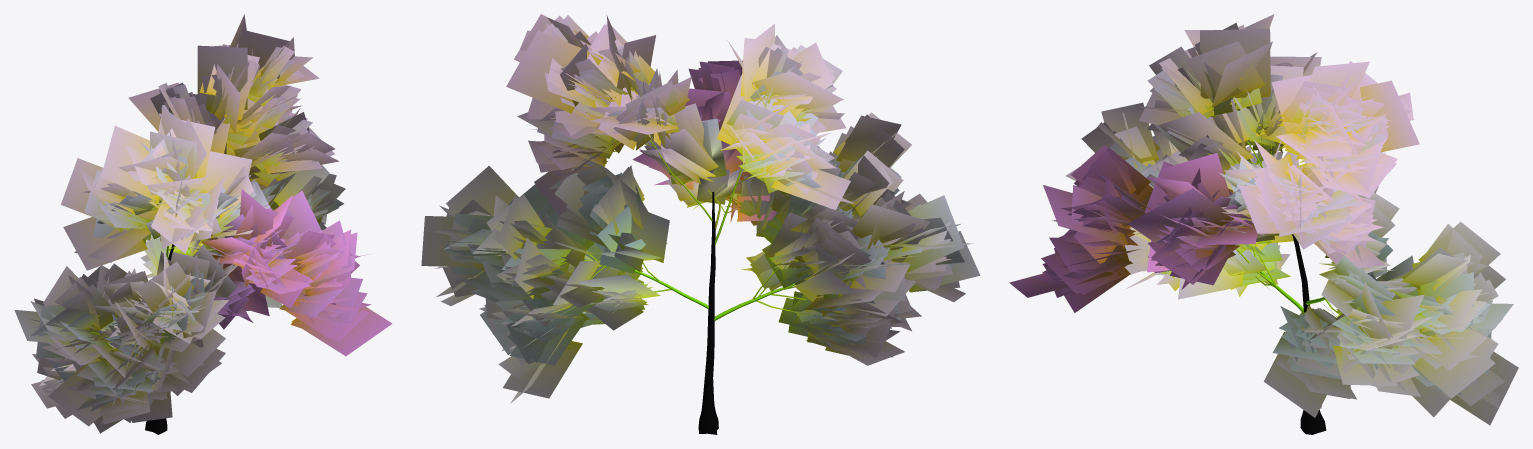
File: tree_pagoda_d.glb
3 renders of one model, left to right at view 1: azimuth 30°, elevation 25°; view 2: azimuth 150°, elevation 25°; view 3: azimuth 270°, elevation 25°, orthographic. The views are drawn at different scales.
Visible parts, largest first — view 1: tree_pagoda_d; view 2: tree_pagoda_d; view 3: tree_pagoda_d.
Part boxes in pixels (<box>): tree_pagoda_d: <box>14,14,392,434</box>; tree_pagoda_d: <box>421,14,980,434</box>; tree_pagoda_d: <box>1009,14,1518,434</box>.
Bounding box in the file's own units: 17.03 × 14.74 × 16.29.
